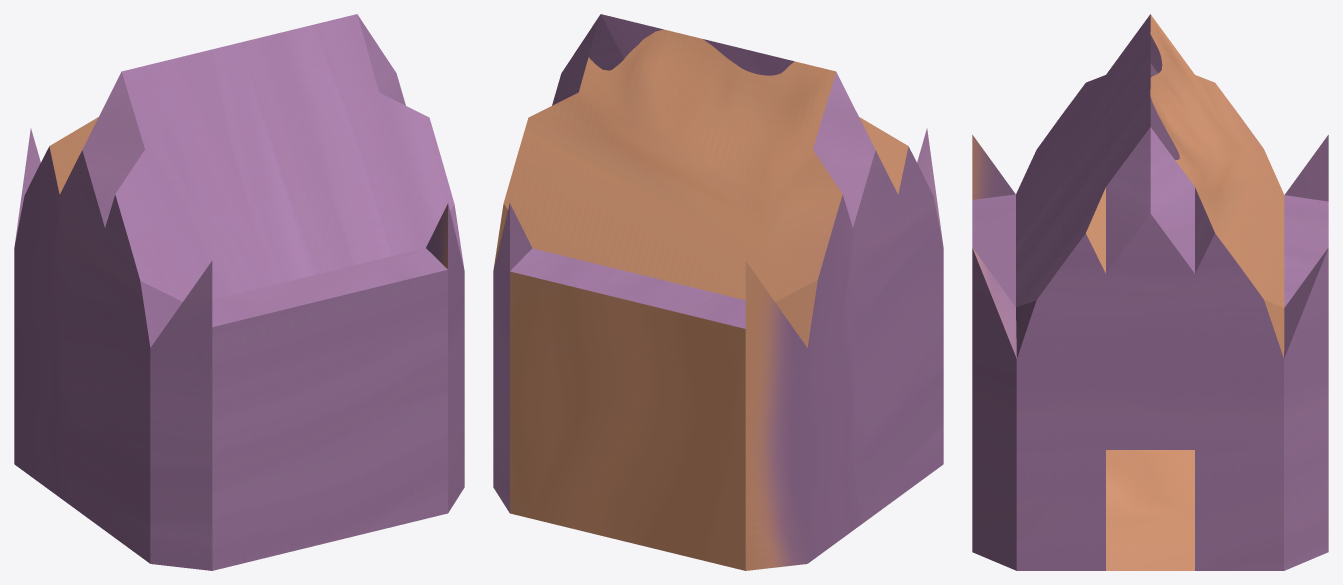
File: house.obj
3 renders of one model, left to right at view 1: azimuth 30°, elevation 25°; view 2: azimuth 150°, elevation 25°; view 3: azimuth 270°, elevation 25°, orthographic.
Visible parts, largest first — view 1: Cube; view 2: Cube; view 3: Cube.
Part boxes in pixels (bbox=[...]): Cube: bbox=[14, 14, 464, 570]; Cube: bbox=[493, 14, 943, 570]; Cube: bbox=[972, 14, 1328, 570].
Size of the model in its own units: 8 by 10.53 by 8.
Materials: 1 (1 with a texture image).
